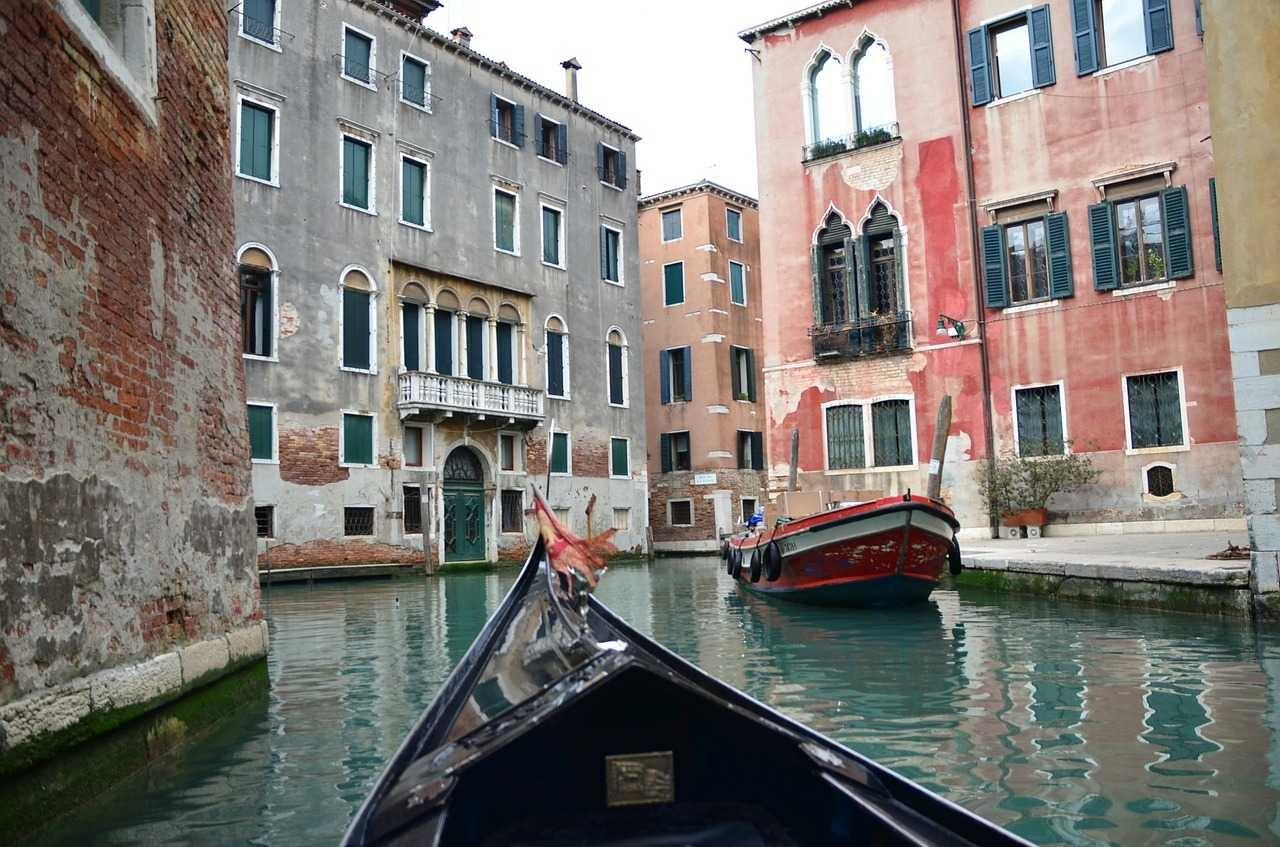kayak: (340, 488, 1027, 842), (724, 490, 964, 610)
